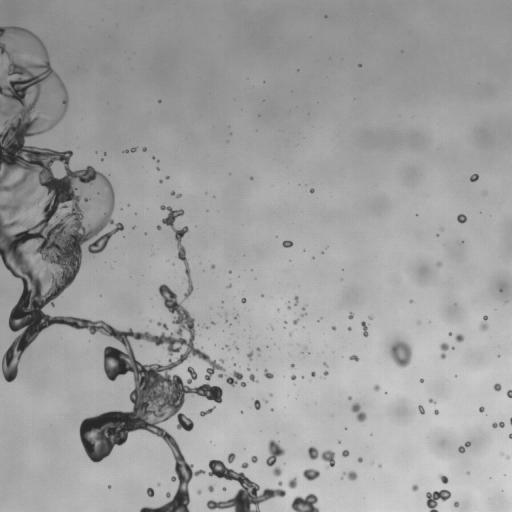droplet: (206, 460, 285, 511), (390, 342, 412, 367), (426, 489, 451, 511), (266, 439, 285, 466), (291, 493, 319, 511), (351, 403, 366, 422), (302, 468, 319, 481), (342, 471, 357, 480), (479, 316, 488, 330), (287, 476, 297, 488), (457, 214, 466, 223), (264, 369, 273, 378), (439, 474, 448, 483), (455, 334, 464, 342), (227, 453, 235, 462), (273, 467, 281, 476), (146, 488, 154, 497), (282, 240, 292, 247), (493, 383, 501, 391), (249, 373, 256, 382), (470, 174, 478, 181), (254, 400, 260, 409), (418, 405, 424, 414), (342, 450, 349, 457), (247, 352, 253, 360), (350, 355, 358, 361), (373, 384, 379, 391), (241, 462, 248, 468), (412, 484, 418, 491), (251, 456, 257, 462), (348, 312, 353, 319), (208, 485, 213, 492), (241, 297, 246, 303), (479, 406, 484, 412), (428, 399, 435, 403), (293, 319, 298, 324), (323, 371, 328, 376), (291, 375, 296, 380), (311, 371, 315, 377), (454, 501, 458, 507), (157, 225, 161, 230), (434, 409, 438, 414), (358, 457, 362, 462), (142, 147, 146, 151), (310, 188, 314, 192), (437, 262, 441, 266), (222, 487, 226, 491), (197, 490, 201, 494), (211, 265, 215, 268), (420, 378, 423, 382), (332, 326, 335, 329), (348, 327, 351, 330), (225, 345, 228, 348), (324, 363, 327, 366), (291, 364, 294, 367), (348, 396, 351, 399), (264, 399, 267, 402), (359, 64, 361, 67), (156, 167, 159, 169), (166, 176, 168, 179), (250, 177, 253, 179), (159, 180, 162, 182), (228, 284, 230, 287), (409, 300, 412, 302), (287, 306, 290, 308), (235, 315, 238, 317), (369, 316, 371, 319), (206, 326, 209, 328), (449, 332, 451, 335), (236, 346, 238, 349), (304, 346, 306, 349), (257, 348, 259, 351), (158, 100, 160, 102), (284, 321, 286, 323), (212, 322, 214, 324), (289, 333, 291, 335)
ligament: (0, 26, 223, 511), (160, 205, 193, 300), (308, 446, 335, 466), (218, 371, 246, 386), (458, 441, 470, 453), (440, 342, 448, 358), (200, 407, 214, 416), (361, 321, 368, 336), (157, 321, 167, 330), (123, 147, 137, 153), (492, 421, 504, 428), (171, 191, 181, 197), (294, 296, 298, 305), (507, 389, 511, 398), (302, 306, 305, 315), (509, 433, 511, 439), (510, 418, 511, 424)
